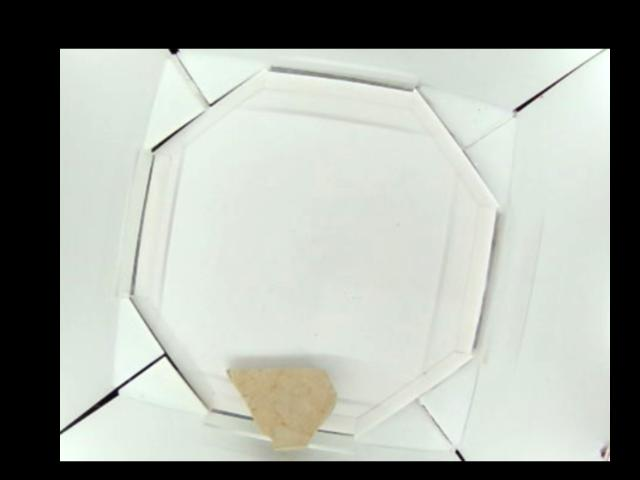China: (224, 367, 335, 451)
